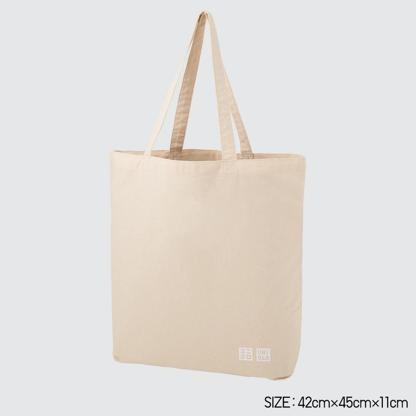not trash: (111, 11, 304, 380)
